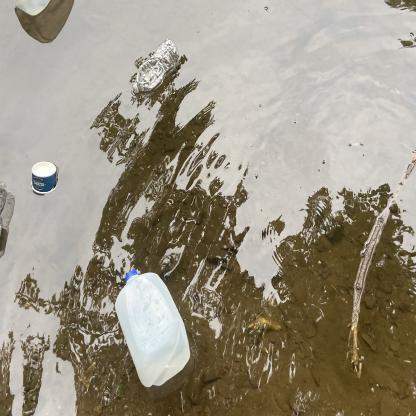trash: (112, 262, 192, 390), (130, 34, 182, 99), (27, 154, 63, 198), (0, 176, 13, 242), (11, 0, 56, 19)
